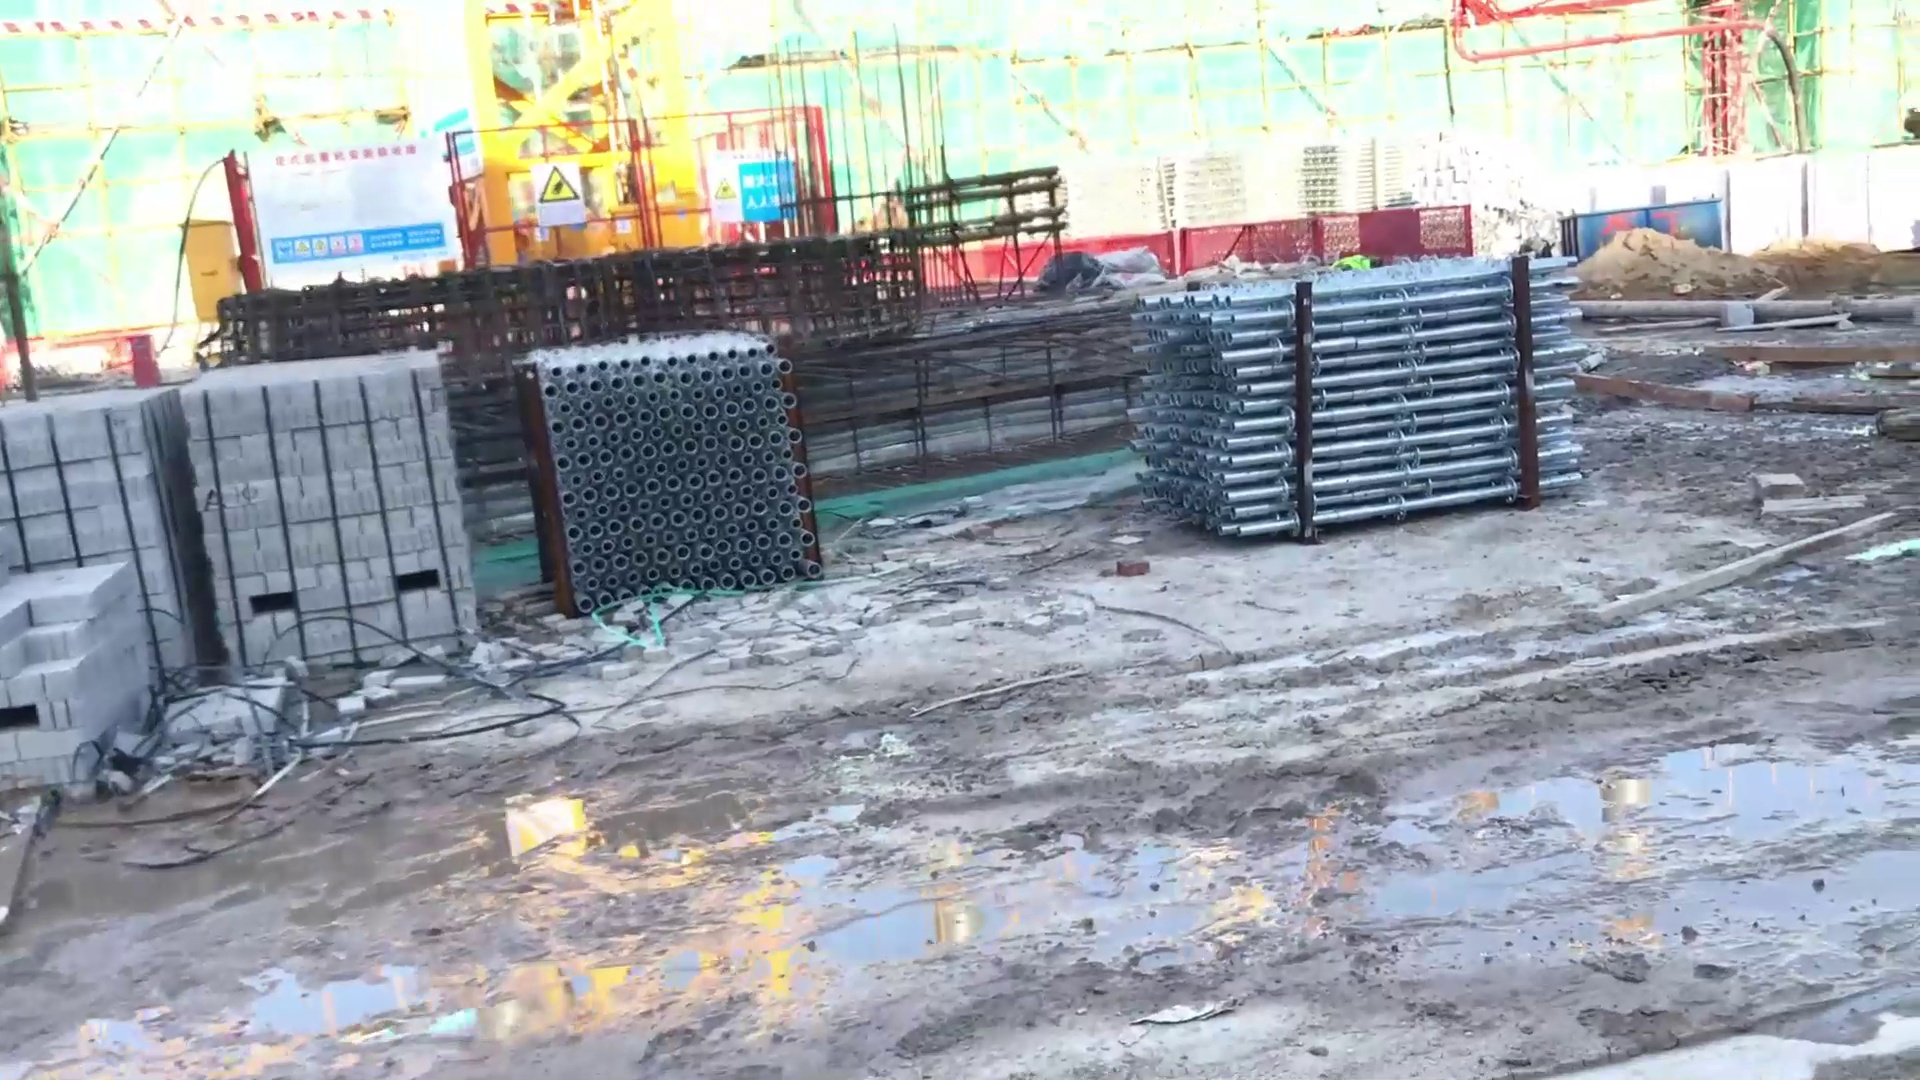brick: (185, 353, 465, 680), (1, 316, 175, 808)
ebox: (167, 199, 241, 309)
fence: (1175, 203, 1451, 273)
hopper: (1561, 187, 1729, 272)
scaffold: (1127, 281, 1607, 524), (498, 334, 828, 592)
slogan: (266, 227, 473, 272), (704, 169, 803, 225), (526, 157, 593, 222)
